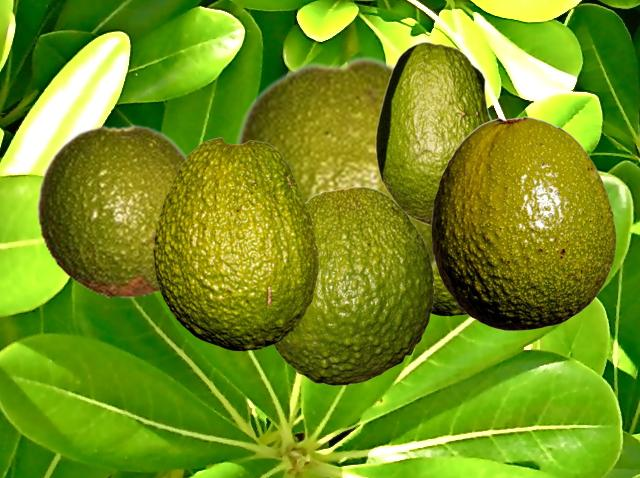avocado: (230, 54, 436, 278), (431, 116, 615, 329), (153, 137, 317, 350), (273, 186, 433, 384), (36, 124, 186, 298), (375, 41, 492, 225), (432, 271, 466, 315)
